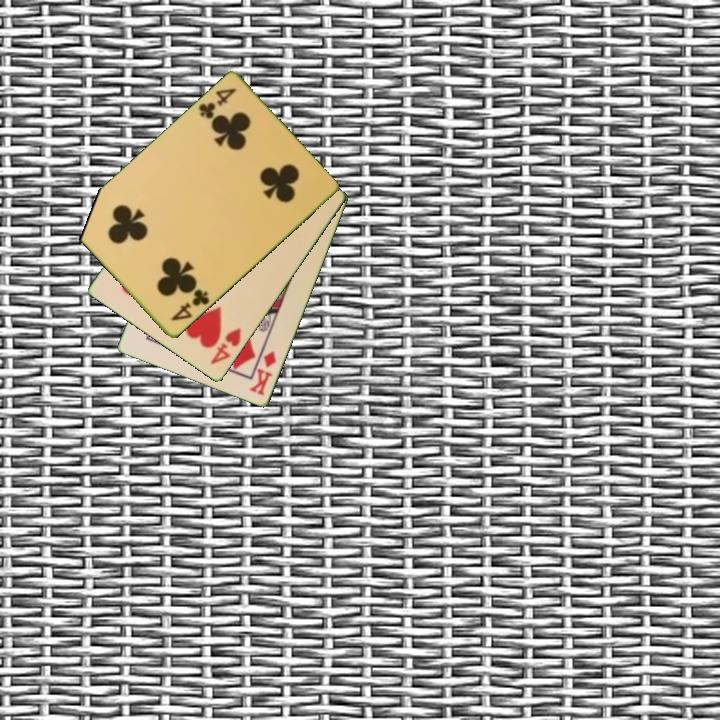4c: (167, 286, 212, 324), (195, 85, 239, 123)
4h: (207, 325, 244, 368)
Kd: (246, 347, 280, 399)
